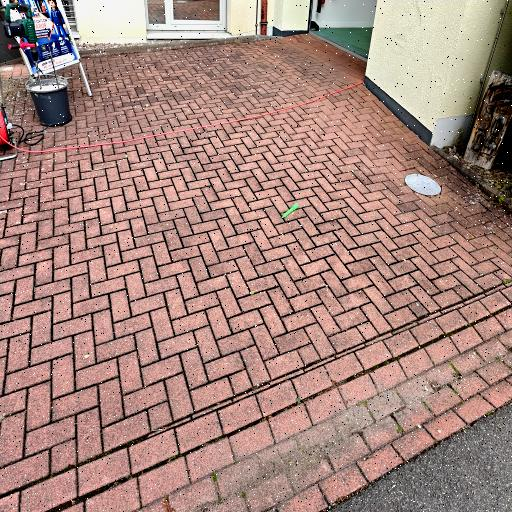Probe-Detection: (281, 203, 298, 218)
